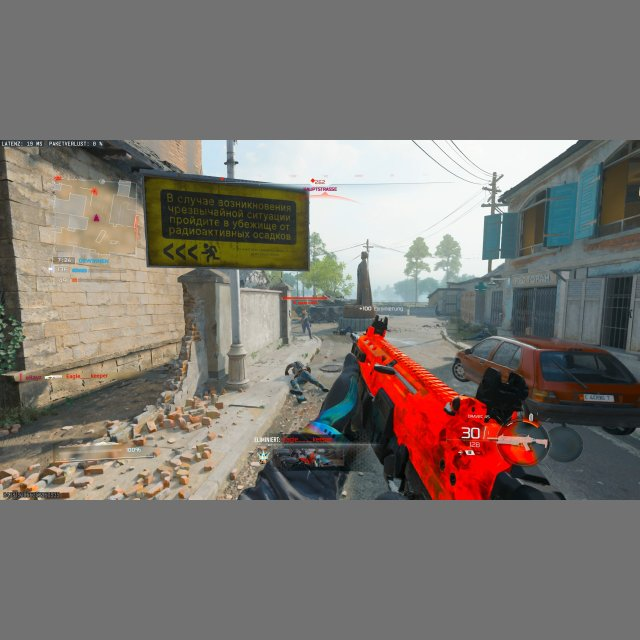player: (300, 309, 313, 338)
